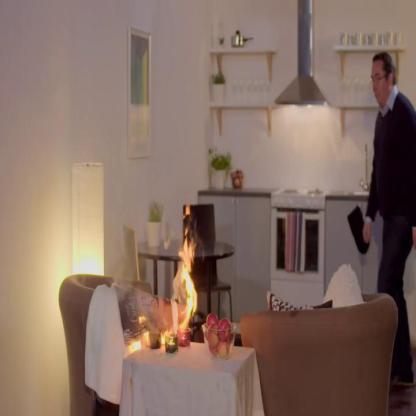fire: (178, 224, 199, 327)
